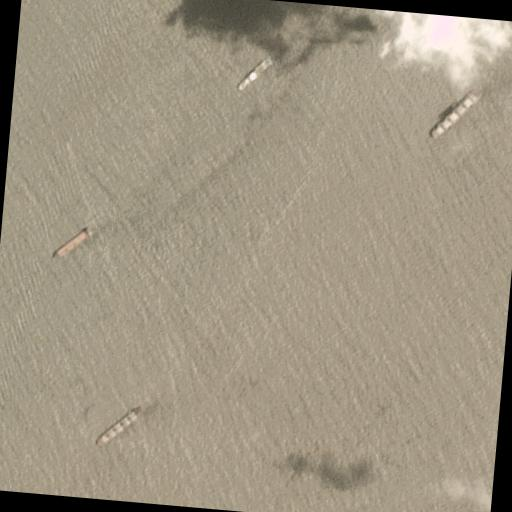ship: (428, 87, 482, 141), (96, 402, 140, 448), (52, 224, 92, 262), (236, 55, 272, 93)
